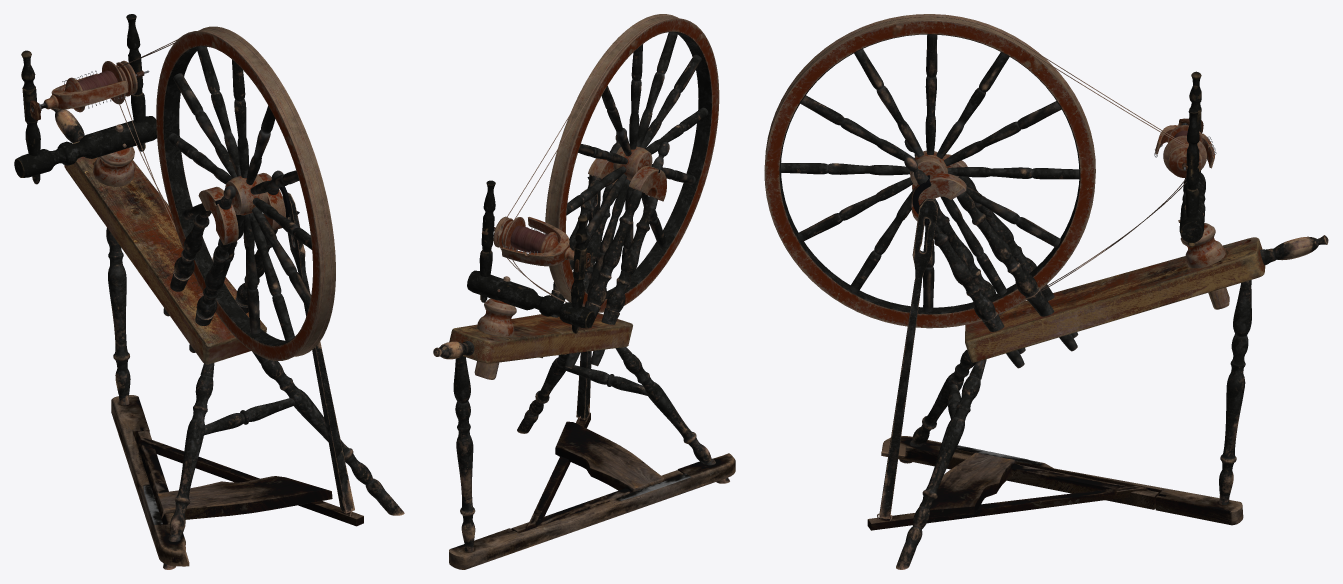
Rendered from spinning_wheel_01_4k.gltf.
The picture shows the model from 3 angles, left to right: view 1: azimuth 30°, elevation 25°; view 2: azimuth 150°, elevation 25°; view 3: azimuth 270°, elevation 25°; orthographic projection. The views are drawn at different scales.
Visible parts, largest first — view 1: spinning_wheel_01; view 2: spinning_wheel_01; view 3: spinning_wheel_01.
Part boxes in pixels (x1,y1,x2,y2): spinning_wheel_01: (14,14,404,569); spinning_wheel_01: (433,14,735,569); spinning_wheel_01: (764,14,1328,569).
Size of the model in its own units: 0.4894 by 0.9662 by 1.02.
1 material, 1 textured.
